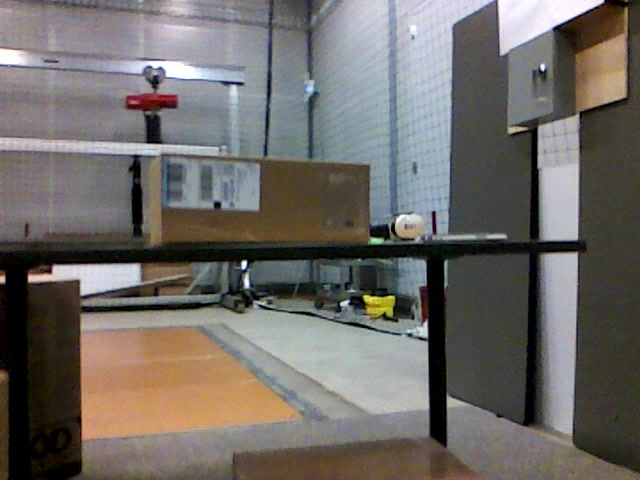box: (145, 160, 369, 250), (29, 275, 81, 479), (231, 442, 473, 480)
